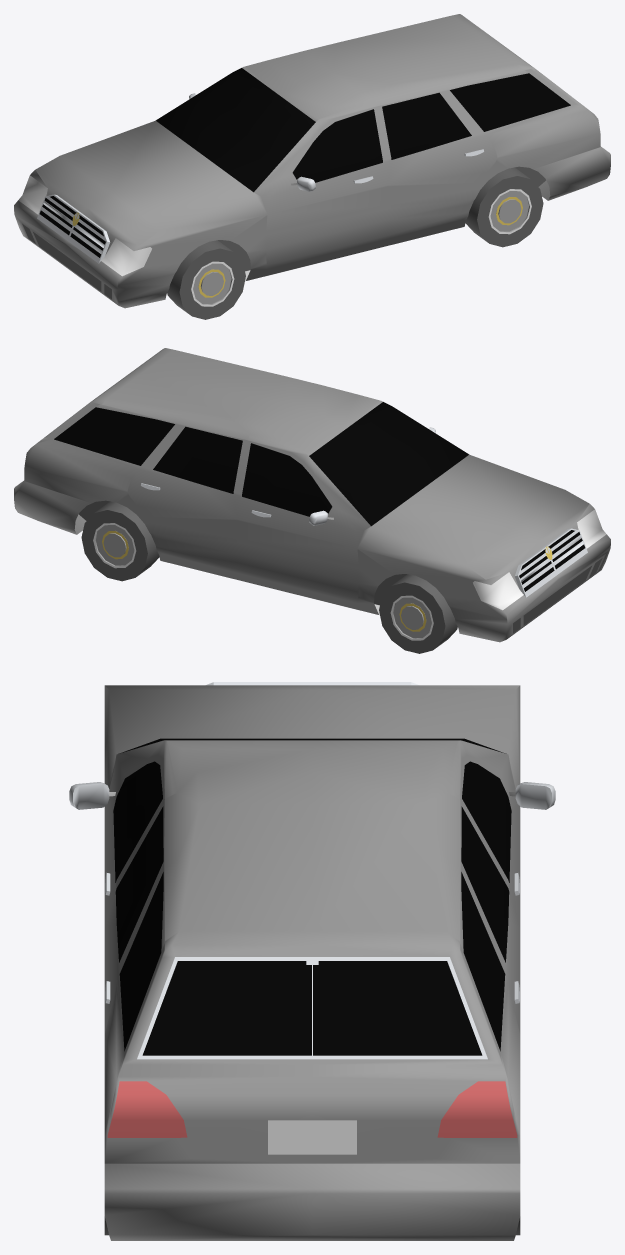
The picture shows the model from 3 angles, top to bottom: view 1: azimuth 30°, elevation 25°; view 2: azimuth 150°, elevation 25°; view 3: azimuth 270°, elevation 25°; orthographic projection. The views are drawn at different scales.
Parts seen in each view (by area): view 1: Mesh72_station_wagon_half2_Silver_station_wagon1_Component_1; view 2: Mesh72_station_wagon_half2_Silver_station_wagon1_Component_1; view 3: Mesh72_station_wagon_half2_Silver_station_wagon1_Component_1.
Part boxes in pixels (x1,y1,x2,y2): Mesh72_station_wagon_half2_Silver_station_wagon1_Component_1: (14, 14, 610, 319); Mesh72_station_wagon_half2_Silver_station_wagon1_Component_1: (14, 348, 610, 653); Mesh72_station_wagon_half2_Silver_station_wagon1_Component_1: (69, 682, 555, 1240).
Bounding box in the file's own units: 4.8 × 2.05 × 1.55.
